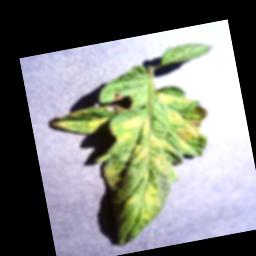Leaf_Mold: (45, 103, 112, 141), (167, 101, 215, 152), (128, 135, 179, 182), (106, 112, 155, 146), (156, 85, 192, 110), (138, 183, 162, 210)
